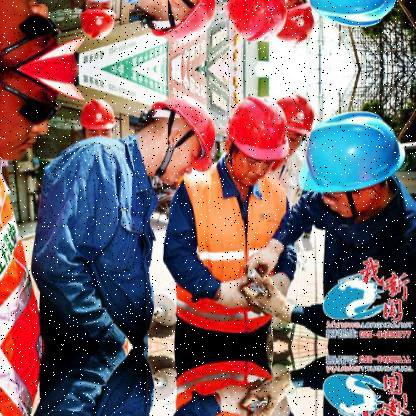Helmet: (294, 117, 412, 224), (0, 49, 100, 172), (128, 95, 222, 189), (208, 96, 296, 193), (130, 0, 220, 58), (306, 0, 405, 42), (220, 2, 294, 57), (268, 87, 318, 162), (73, 92, 123, 150), (270, 0, 320, 54), (76, 2, 121, 50)
